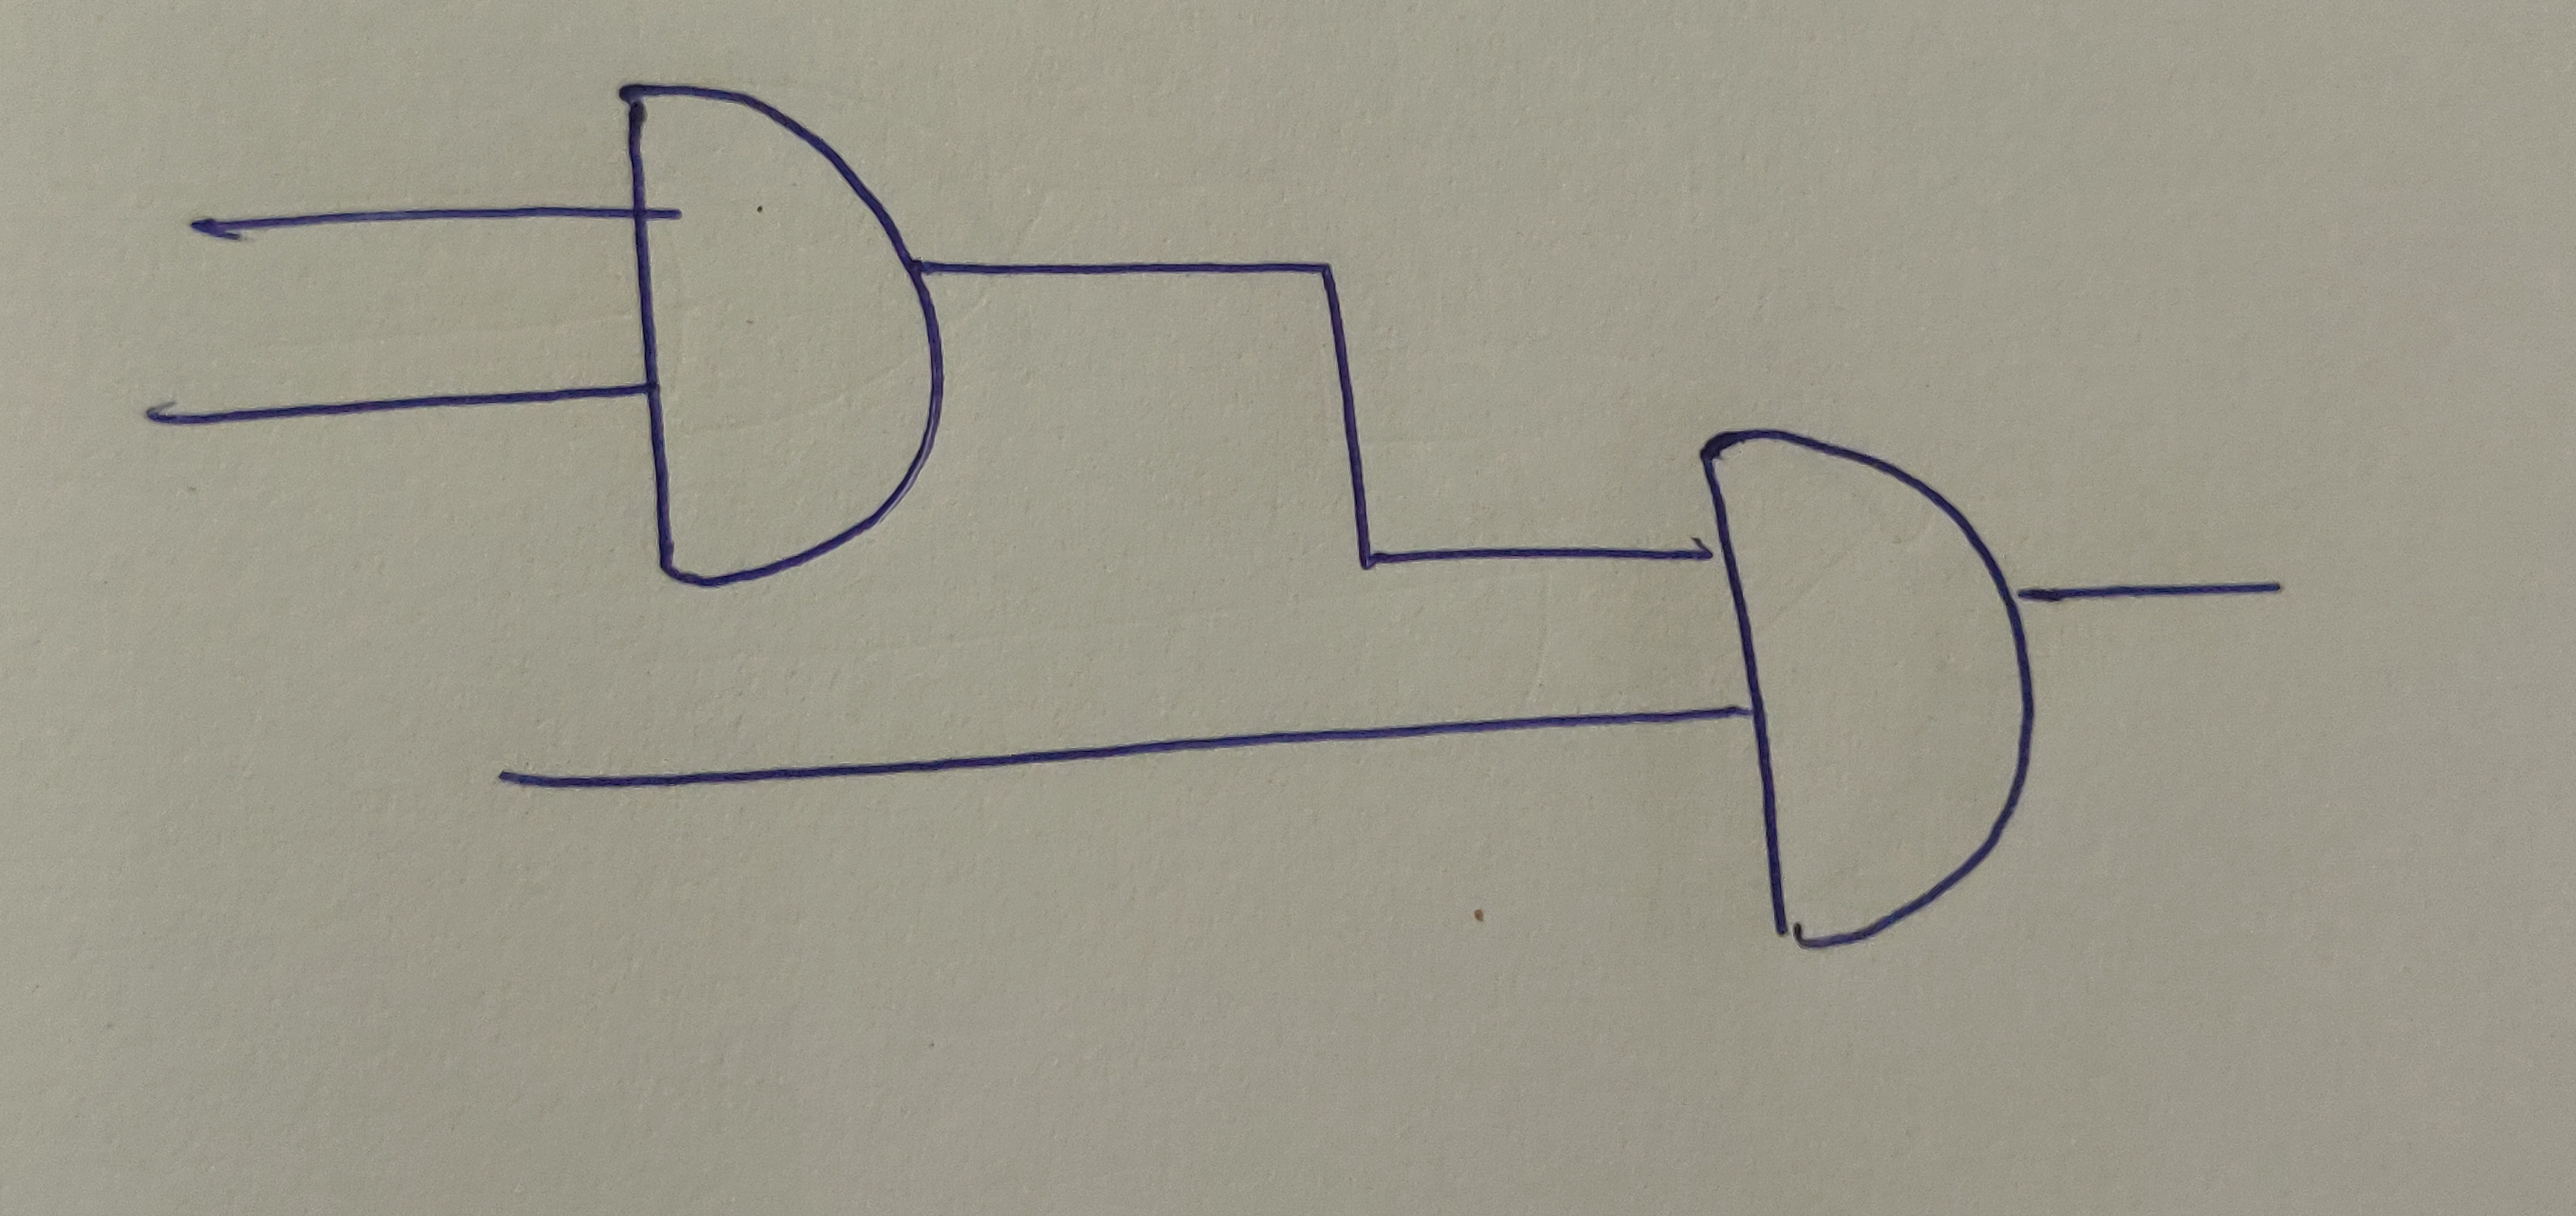and: (1697, 426, 2039, 951), (614, 76, 948, 588)
